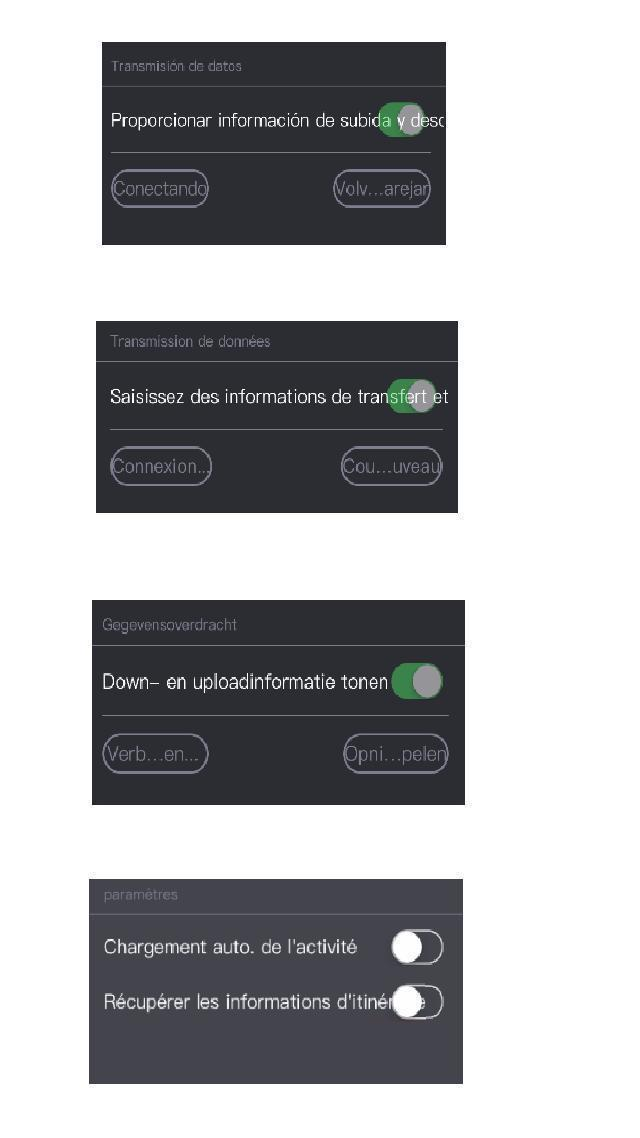Text: (108, 111, 446, 134), (101, 991, 429, 1014), (98, 672, 390, 695), (102, 937, 366, 960), (106, 332, 274, 352), (102, 617, 238, 637), (108, 60, 244, 76), (102, 888, 180, 903)
TextButton: (101, 731, 210, 775), (342, 732, 449, 775), (108, 445, 214, 486), (340, 445, 443, 487), (332, 168, 430, 210), (109, 168, 209, 208), (392, 662, 443, 702), (392, 983, 444, 1021), (392, 927, 445, 964), (387, 380, 438, 414), (378, 102, 426, 138)
WS1: (191, 435, 231, 495), (320, 435, 360, 492), (186, 158, 223, 218), (98, 434, 132, 497), (315, 158, 348, 220), (411, 160, 442, 218), (105, 156, 134, 217), (409, 93, 442, 145), (426, 437, 453, 497), (325, 740, 363, 778), (430, 740, 460, 783), (368, 91, 390, 147), (354, 385, 400, 409), (98, 738, 121, 784), (432, 386, 454, 409), (381, 993, 402, 1013)
